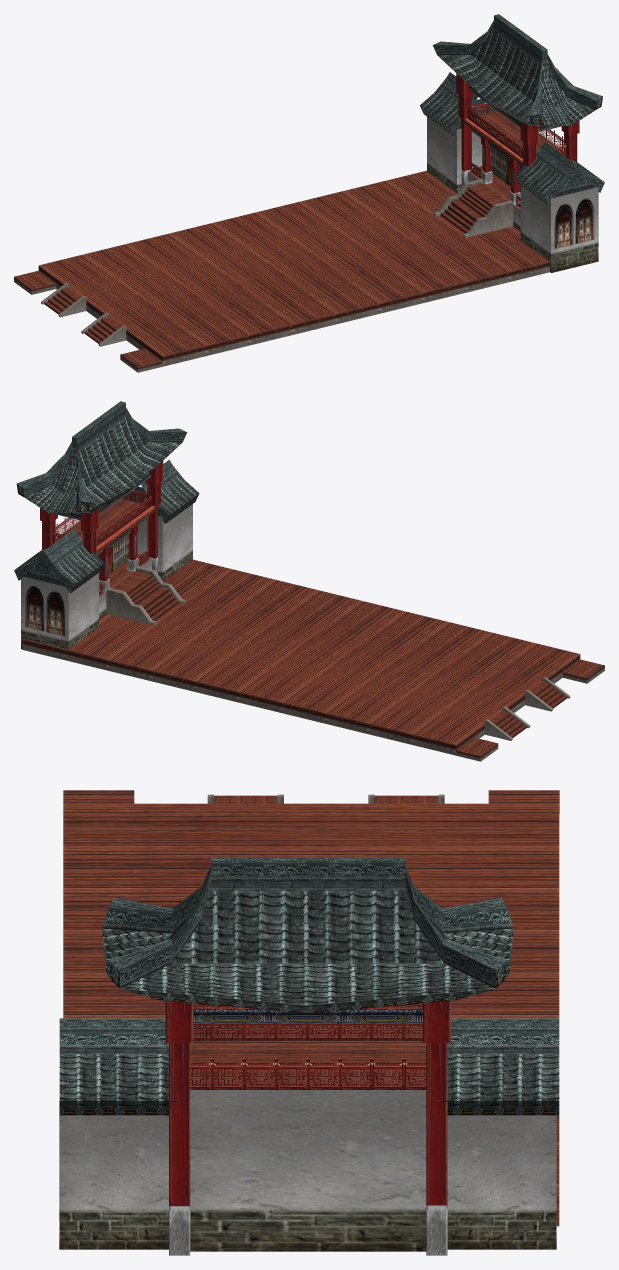
The model's file is cj_monstad_martbuil01_01.glb.
3 renders of one model, top to bottom at view 1: azimuth 30°, elevation 25°; view 2: azimuth 150°, elevation 25°; view 3: azimuth 270°, elevation 25°, orthographic. The views are drawn at different scales.
Parts seen in each view (by area): view 1: CJ_monstad_martbuil01_01_06, CJ_monstad_martbuil01_01_01, CJ_monstad_martbuil01_01_07, CJ_monstad_martbuil01_01_05, CJ_monstad_martbuil01_01_02, CJ_monstad_martbuil01_01_04, CJ_monstad_martbuil01_01_03; view 2: CJ_monstad_martbuil01_01_06, CJ_monstad_martbuil01_01_01, CJ_monstad_martbuil01_01_05, CJ_monstad_martbuil01_01_07, CJ_monstad_martbuil01_01_02, CJ_monstad_martbuil01_01_04, CJ_monstad_martbuil01_01_03; view 3: CJ_monstad_martbuil01_01_01, CJ_monstad_martbuil01_01_07, CJ_monstad_martbuil01_01_06, CJ_monstad_martbuil01_01_02, CJ_monstad_martbuil01_01_03, CJ_monstad_martbuil01_01_04.
Part boxes in pixels (left/top/right/bottom): CJ_monstad_martbuil01_01_06: left=14, top=111, right=563, bottom=367; CJ_monstad_martbuil01_01_01: left=420, top=14, right=604, bottom=205; CJ_monstad_martbuil01_01_07: left=427, top=117, right=598, bottom=272; CJ_monstad_martbuil01_01_05: left=14, top=179, right=549, bottom=372; CJ_monstad_martbuil01_01_02: left=456, top=73, right=579, bottom=204; CJ_monstad_martbuil01_01_04: left=44, top=183, right=507, bottom=343; CJ_monstad_martbuil01_01_03: left=468, top=102, right=566, bottom=207; CJ_monstad_martbuil01_01_06: left=23, top=499, right=604, bottom=756; CJ_monstad_martbuil01_01_01: left=14, top=401, right=199, bottom=593; CJ_monstad_martbuil01_01_05: left=22, top=566, right=604, bottom=761; CJ_monstad_martbuil01_01_07: left=21, top=504, right=192, bottom=649; CJ_monstad_martbuil01_01_02: left=40, top=461, right=163, bottom=592; CJ_monstad_martbuil01_01_04: left=112, top=571, right=567, bottom=737; CJ_monstad_martbuil01_01_03: left=53, top=490, right=151, bottom=594; CJ_monstad_martbuil01_01_01: left=59, top=857, right=559, bottom=1115; CJ_monstad_martbuil01_01_07: left=59, top=1090, right=556, bottom=1251; CJ_monstad_martbuil01_01_06: left=63, top=790, right=559, bottom=1226; CJ_monstad_martbuil01_01_02: left=165, top=1001, right=450, bottom=1255; CJ_monstad_martbuil01_01_03: left=190, top=1023, right=426, bottom=1089; CJ_monstad_martbuil01_01_04: left=214, top=795, right=438, bottom=803.
Bounding box in the file's own units: 47.03 × 17.51 × 21.18.
Materials: 7 (7 with a texture image).
